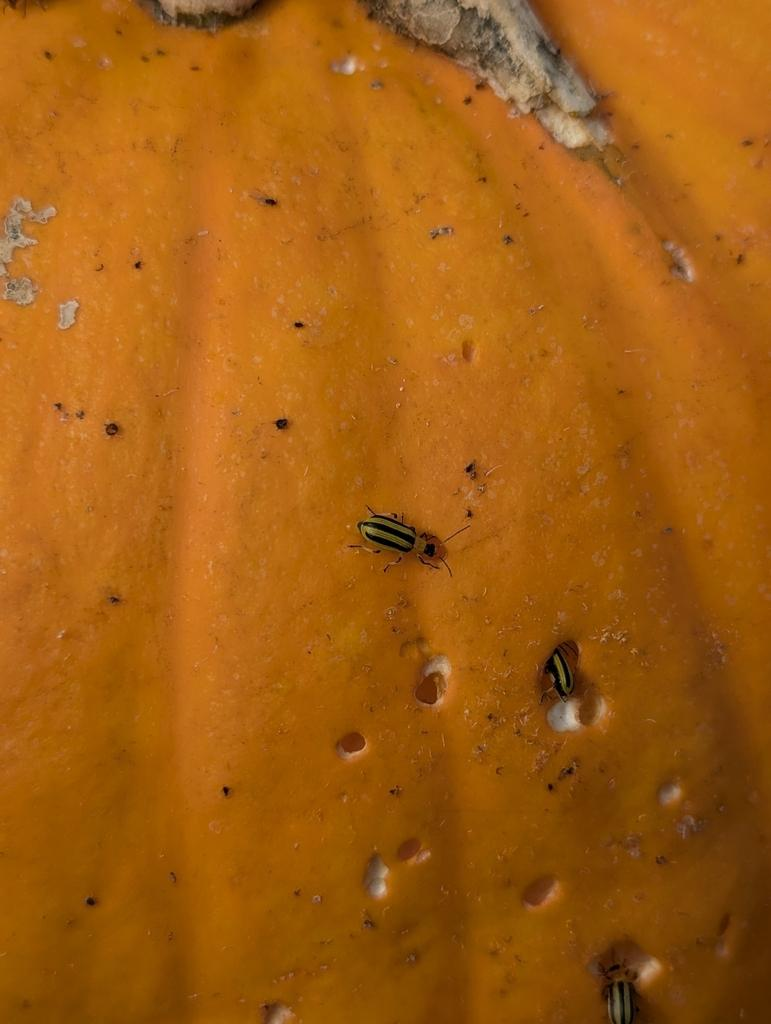potato_beetle: (341, 479, 477, 596), (584, 943, 654, 1024)
